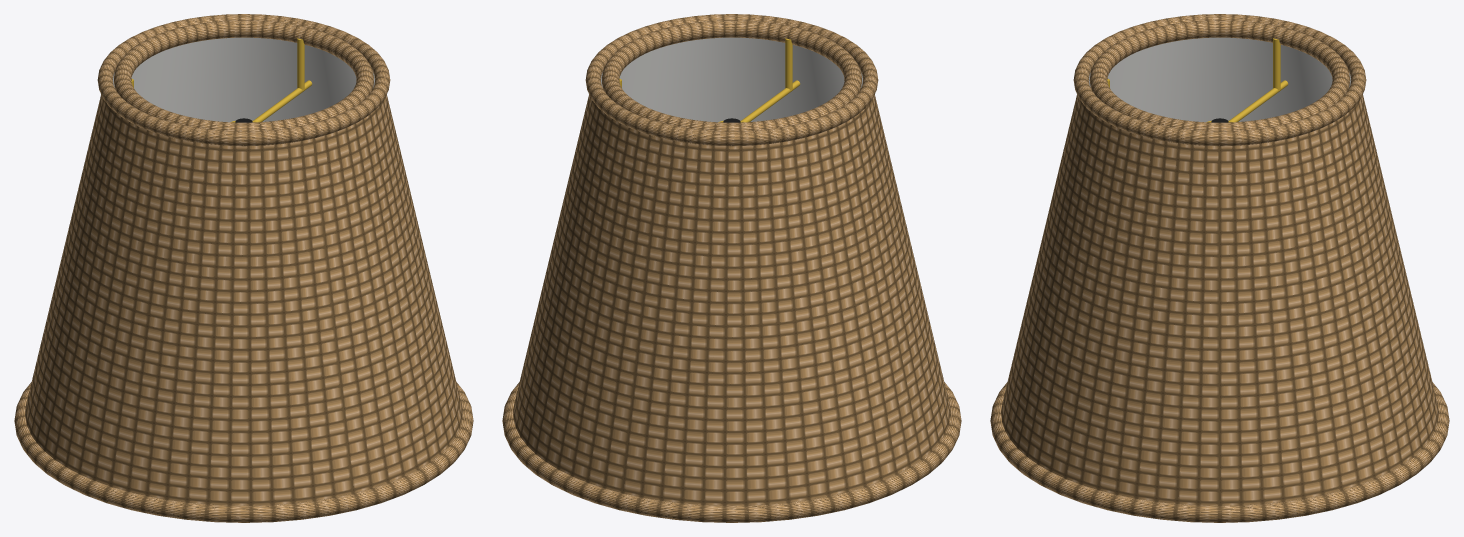
Rendered from gen-1793018603882-cb9uik.glb.
The picture shows the model from 3 angles, left to right: view 1: azimuth 30°, elevation 25°; view 2: azimuth 150°, elevation 25°; view 3: azimuth 270°, elevation 25°; orthographic projection.
Parts seen in each view (by area): view 1: outer_shade_body, inner_reflective_liner, bottom_rolled_edge_rim, top_rim, top_rolled_edge_rim; view 2: outer_shade_body, inner_reflective_liner, bottom_rolled_edge_rim, top_rim, top_rolled_edge_rim; view 3: outer_shade_body, inner_reflective_liner, bottom_rolled_edge_rim, top_rim, top_rolled_edge_rim.
Part boxes in pixels (<box>): outer_shade_body: <box>25,94,462,505</box>; inner_reflective_liner: <box>113,37,374,122</box>; bottom_rolled_edge_rim: <box>14,382,473,522</box>; top_rim: <box>114,20,373,131</box>; top_rolled_edge_rim: <box>97,14,390,146</box>; outer_shade_body: <box>513,94,950,505</box>; inner_reflective_liner: <box>601,37,862,122</box>; bottom_rolled_edge_rim: <box>502,382,961,522</box>; top_rim: <box>602,20,861,131</box>; top_rolled_edge_rim: <box>585,14,878,146</box>; outer_shade_body: <box>1001,94,1438,505</box>; inner_reflective_liner: <box>1089,37,1350,122</box>; bottom_rolled_edge_rim: <box>990,382,1449,522</box>; top_rim: <box>1089,20,1350,131</box>; top_rolled_edge_rim: <box>1073,14,1366,146</box>.
Bounding box in the file's own units: 0.35 × 0.3 × 0.35.
Materials: 9 (3 with a texture image).
